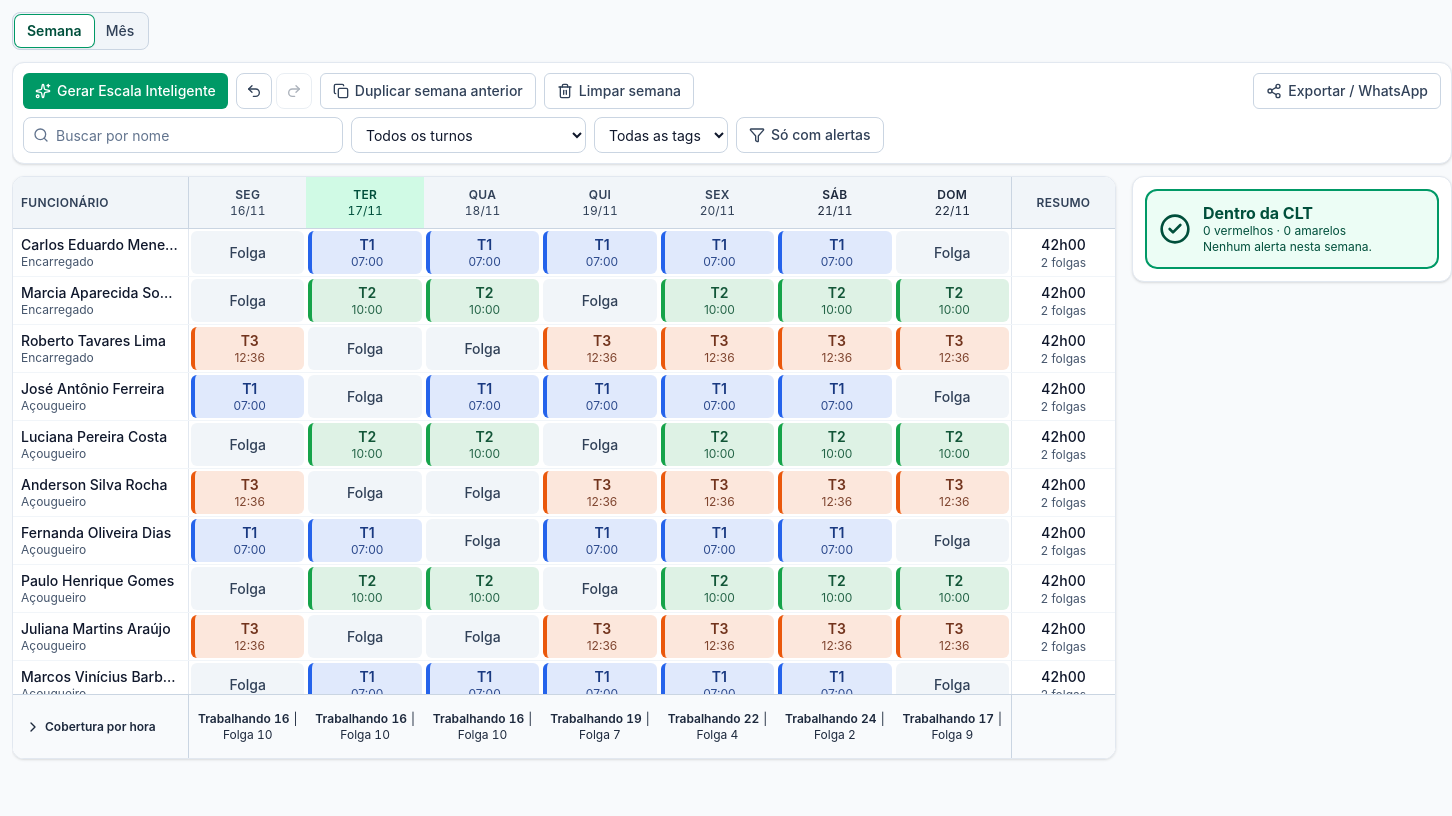
Test: ScheduleView › heatmap "Cobertura por hora" expande com 24 horas por dia
What coordinates should you click on to do the following:
click the button "Cobertura por hora"
I would click on:
 (90, 727)
Its box is [21,715,160,739].
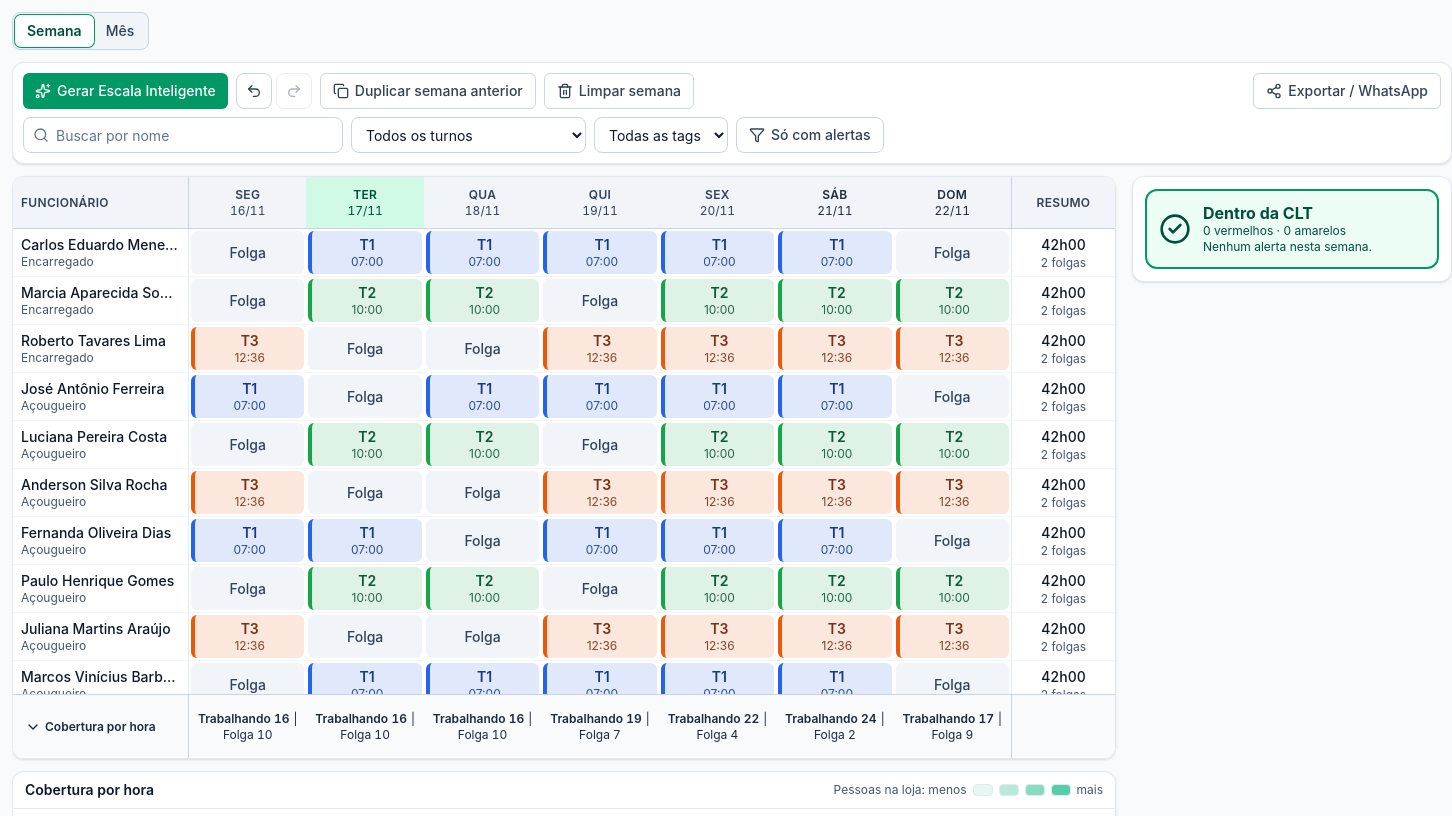
expect the button "Cobertura por hora" is expanded: met, box [21,715,160,739]
expect the number of column headings "00h" is 24: met
